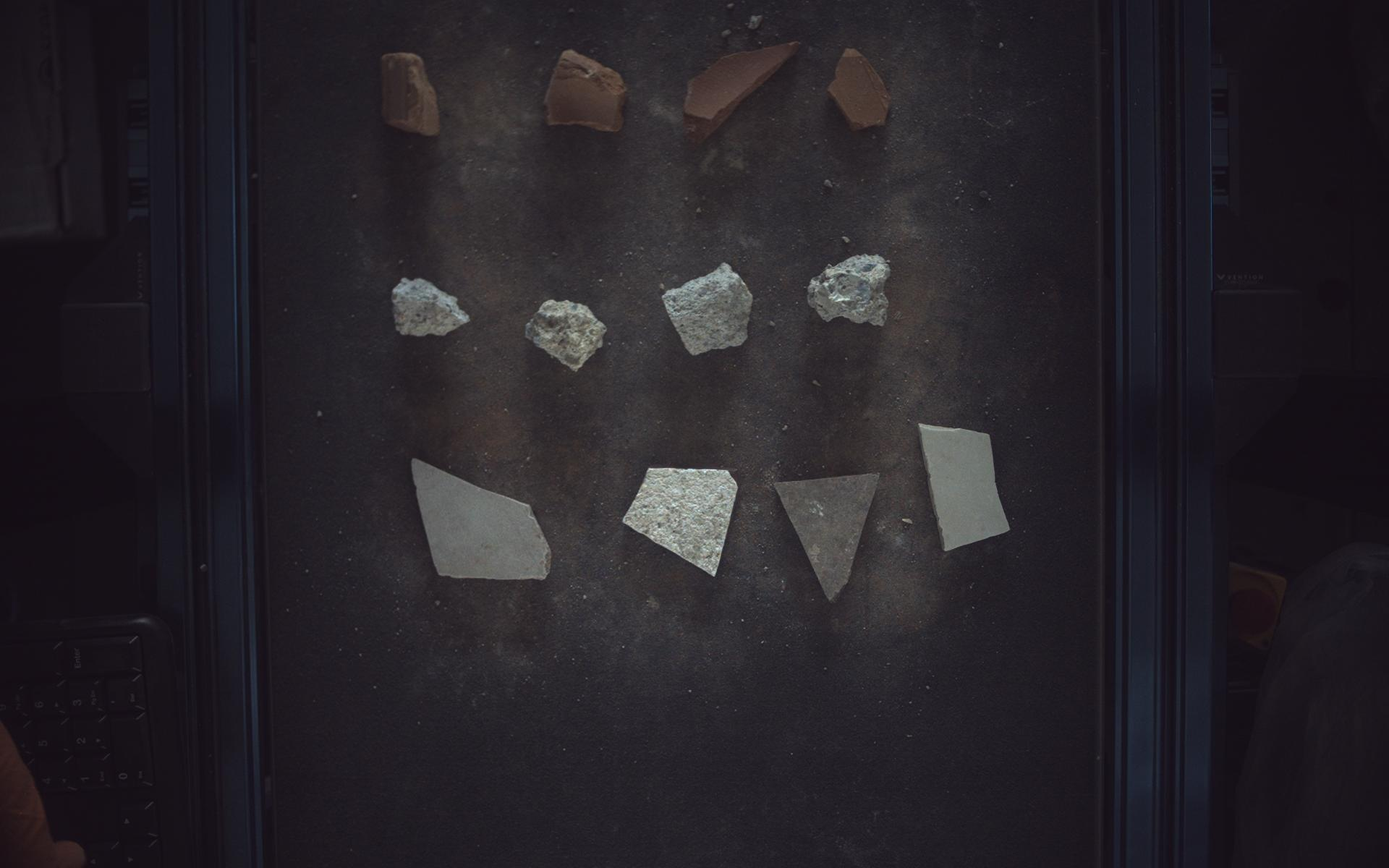brick: (685, 41, 801, 143), (545, 48, 626, 130), (829, 47, 892, 129), (381, 51, 440, 135)
concrete: (663, 262, 754, 354), (810, 254, 892, 326), (525, 299, 606, 371), (392, 277, 470, 336)
tile: (412, 460, 551, 580), (776, 474, 880, 602), (624, 469, 737, 576), (922, 424, 1012, 551)
